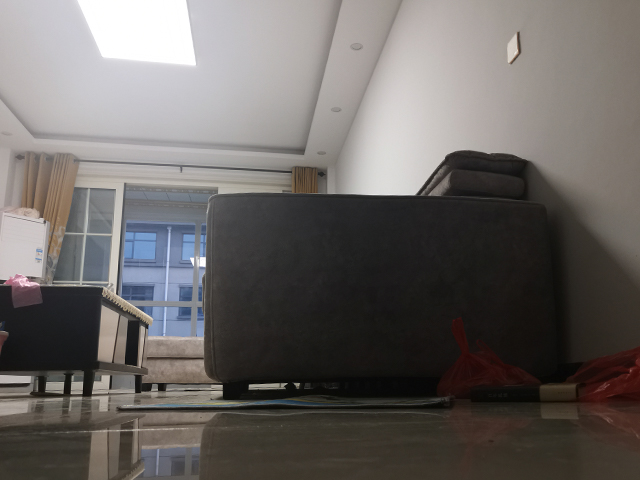carpet: (115, 394, 454, 414)
sofa: (199, 150, 571, 400), (142, 334, 204, 394)
table: (1, 277, 154, 399)
